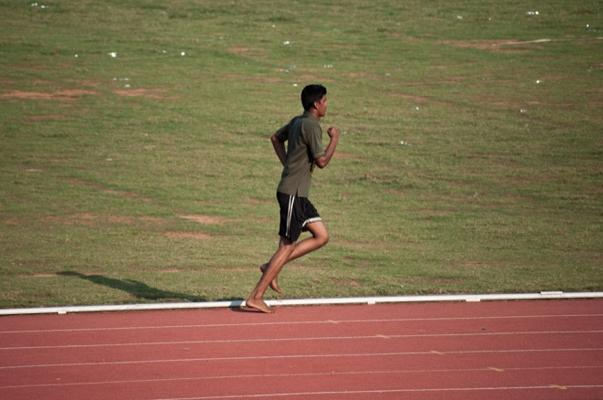person: (244, 83, 344, 316)
